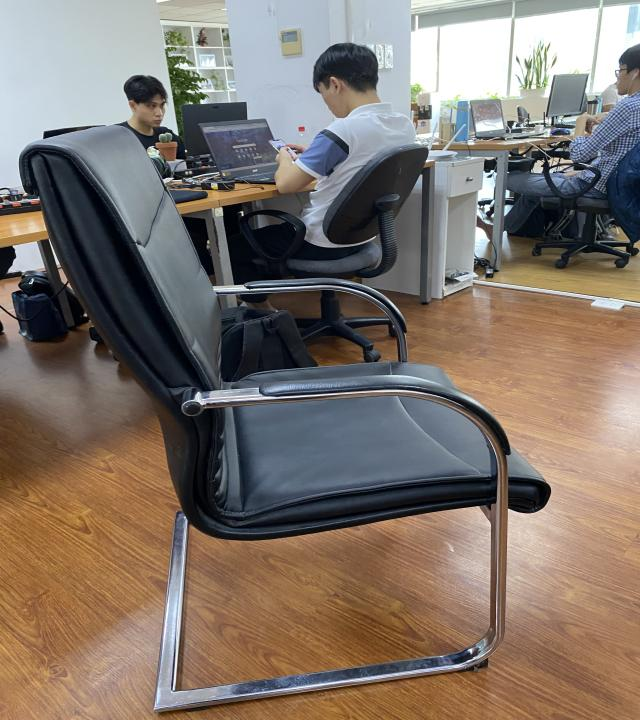SS_03: (19, 122, 550, 715)
